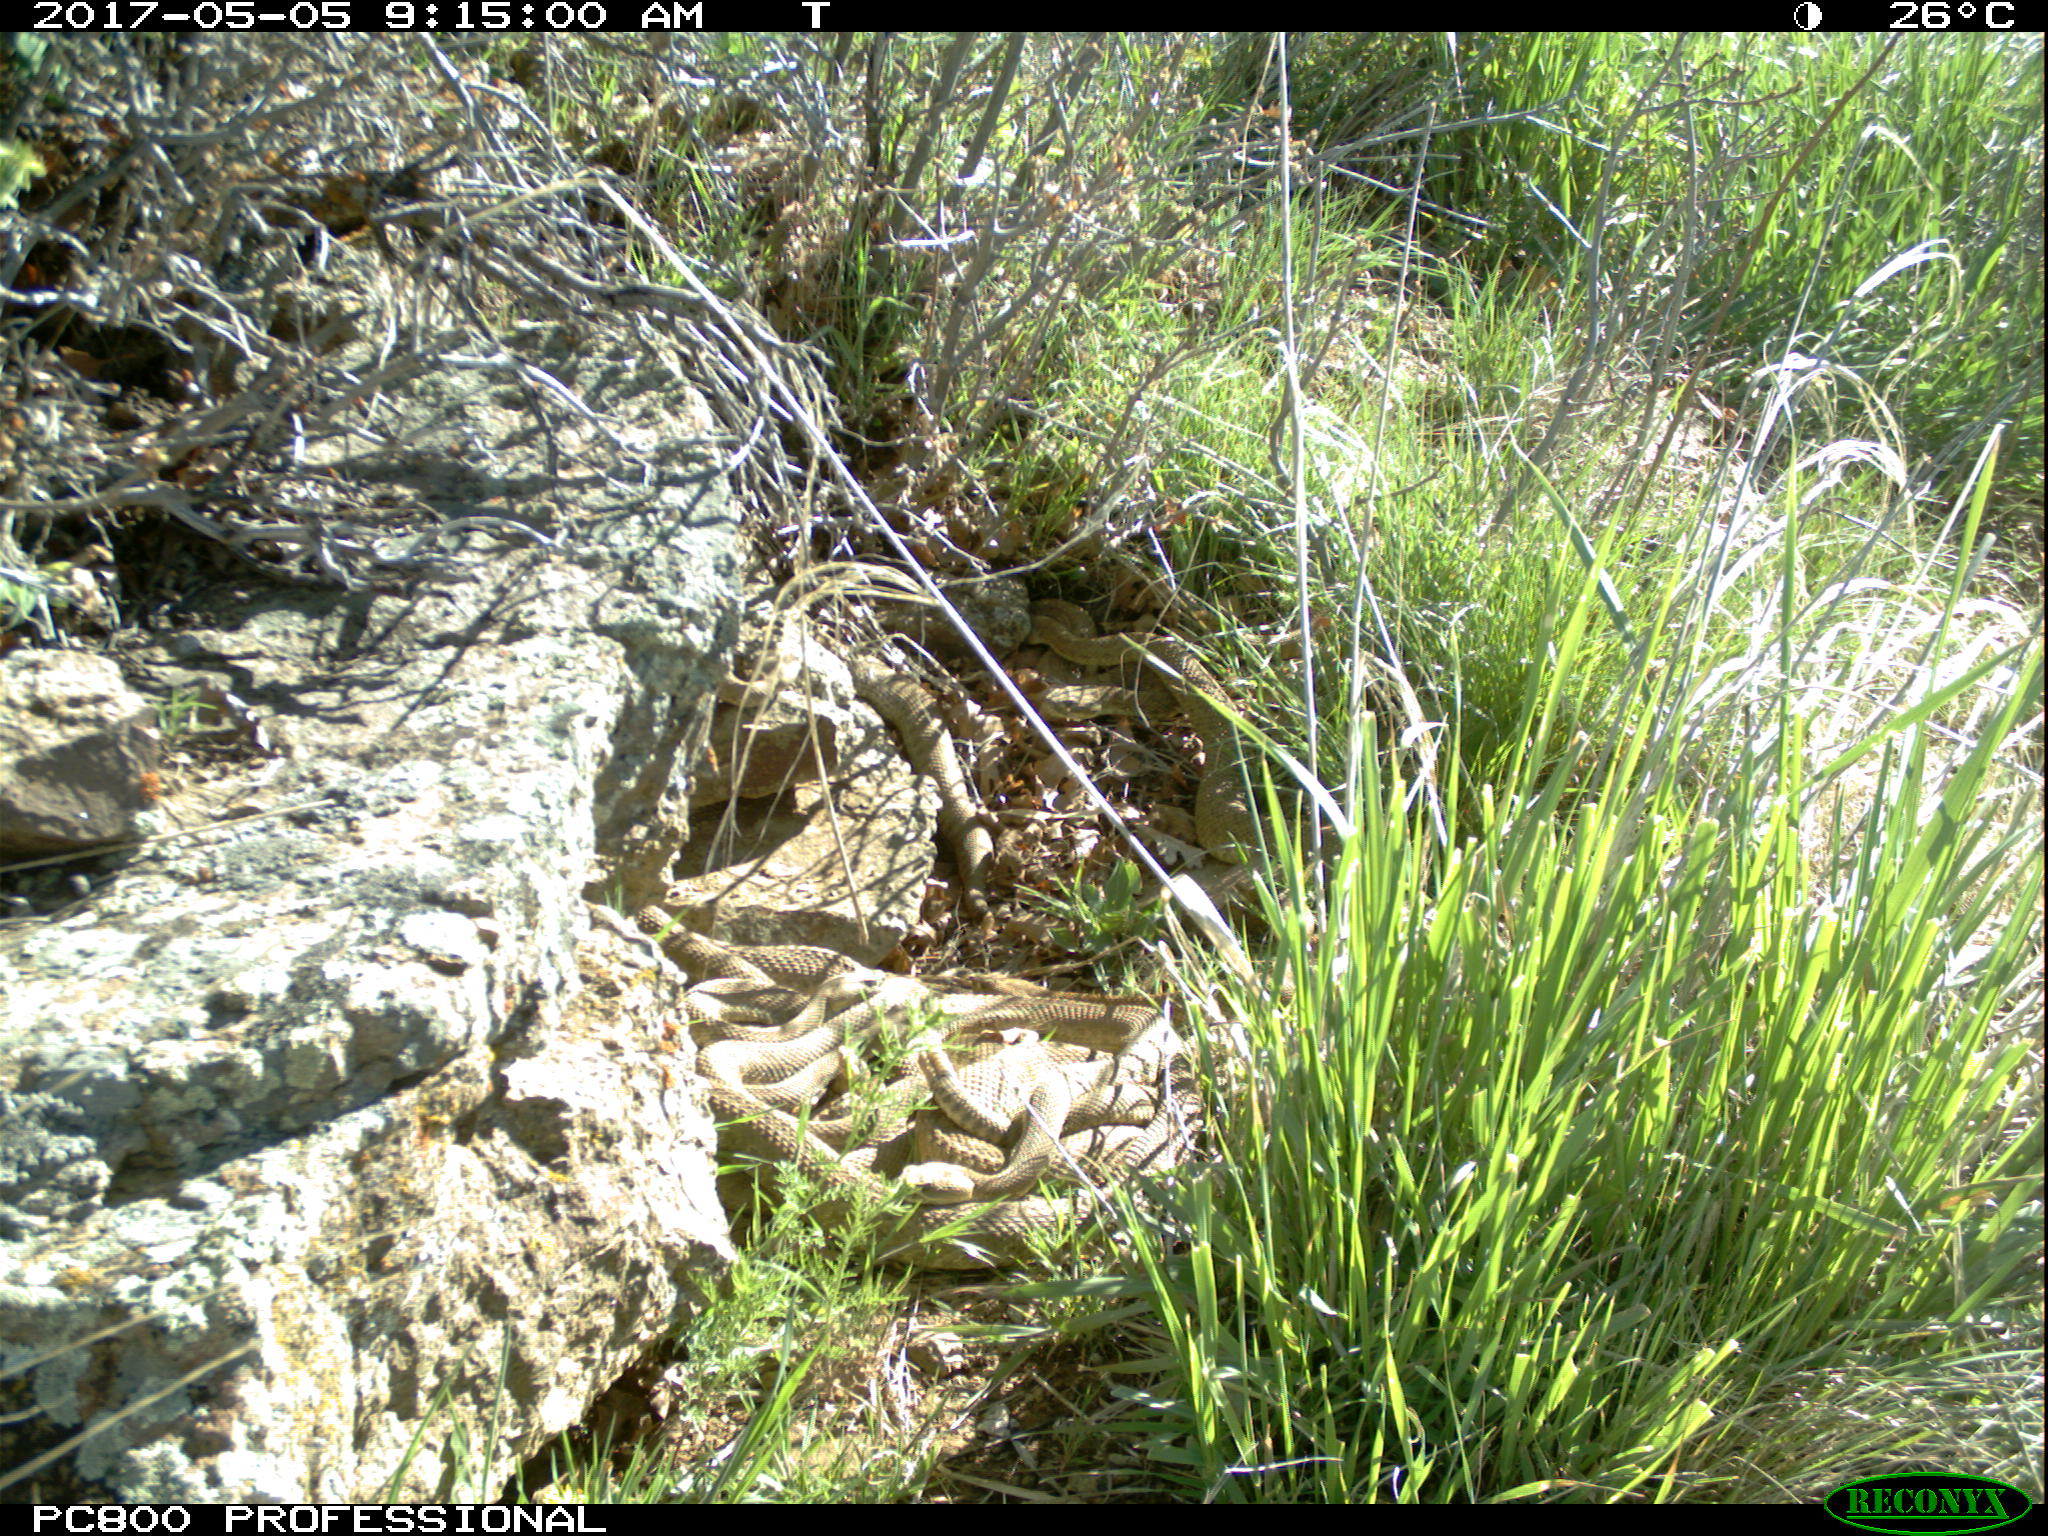snake: (1030, 603, 1321, 912), (731, 1108, 1164, 1267), (635, 908, 947, 1118), (847, 644, 1022, 937), (939, 968, 1224, 1115)
